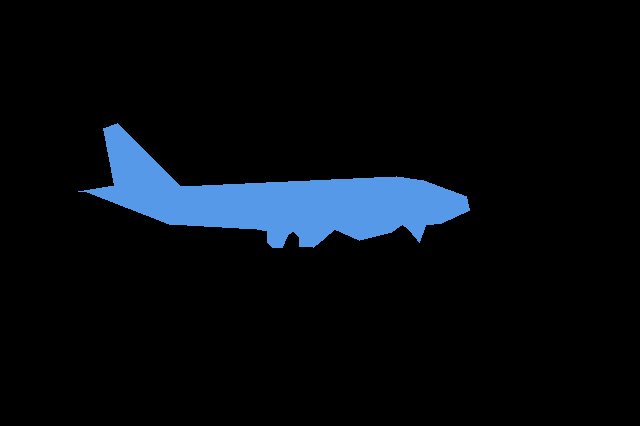Airplane: (78, 123, 469, 247)
